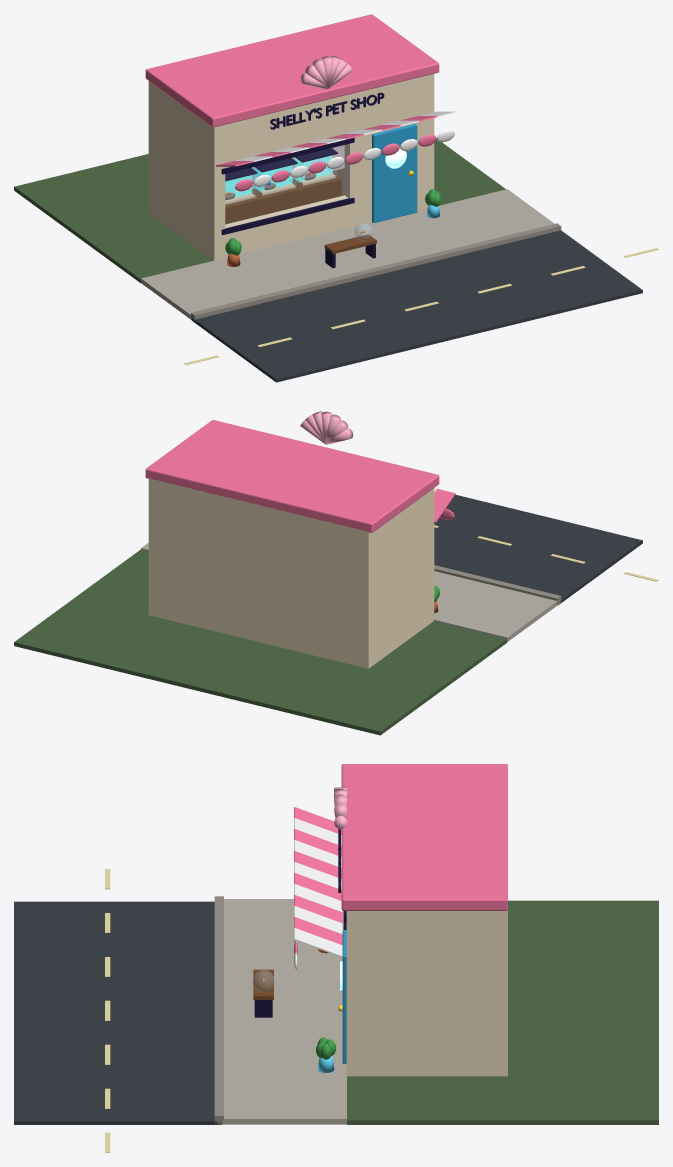
Rendered from store_shellys.glb.
3 renders of one model, top to bottom at view 1: azimuth 30°, elevation 25°; view 2: azimuth 150°, elevation 25°; view 3: azimuth 270°, elevation 25°, orthographic. The views are drawn at different scales.
Visible parts, largest first — view 1: Cube.001, Cube.011, Cube.015, Cube, Cube.010, Cube.013, Cube.034, Cube.009, Cube.021, Cube.018, Text, Cube.019 (+1 smaller); view 2: Cube.010, Cube.012, Cube.015, Cube.001, Cube.013, Cube, Cube.009, Cube.011; view 3: Cube.001, Cube.010, Cube.014, Cube.015, Cube, Cube.009, Cube.011, Cube.012, Cube.034, Cube.047, Cube.046, Cube.043 (+2 smaller).
Part boxes in pixels (x1,y1,x2,y2): Cube.001: [191, 230, 642, 382]; Cube.011: [209, 74, 434, 260]; Cube.015: [145, 14, 439, 127]; Cube: [141, 189, 554, 319]; Cube.010: [14, 139, 505, 282]; Cube.013: [150, 82, 208, 257]; Cube.034: [372, 124, 417, 222]; Cube.009: [191, 223, 561, 320]; Cube.021: [225, 173, 341, 224]; Cube.018: [221, 197, 354, 234]; Text: [270, 92, 384, 129]; Cube.019: [221, 137, 354, 174]; Cube.010: [14, 549, 507, 735]; Cube.012: [148, 478, 372, 668]; Cube.015: [145, 420, 439, 532]; Cube.001: [434, 494, 642, 605]; Cube.013: [372, 492, 428, 665]; Cube: [141, 543, 557, 641]; Cube.009: [434, 565, 561, 605]; Cube.011: [429, 488, 434, 624]; Cube.001: [14, 901, 221, 1124]; Cube.010: [347, 900, 658, 1124]; Cube.014: [347, 911, 502, 1076]; Cube.015: [341, 764, 507, 910]; Cube: [222, 899, 346, 1124]; Cube.009: [214, 896, 223, 1124]; Cube.011: [346, 911, 359, 1074]; Cube.012: [497, 910, 507, 1076]; Cube.034: [342, 930, 346, 1063]; Cube.047: [253, 969, 273, 999]; Cube.046: [294, 928, 342, 957]; Cube.043: [294, 895, 342, 923].
Size of the model in its own units: 12.9 by 4.75 by 12.4.
